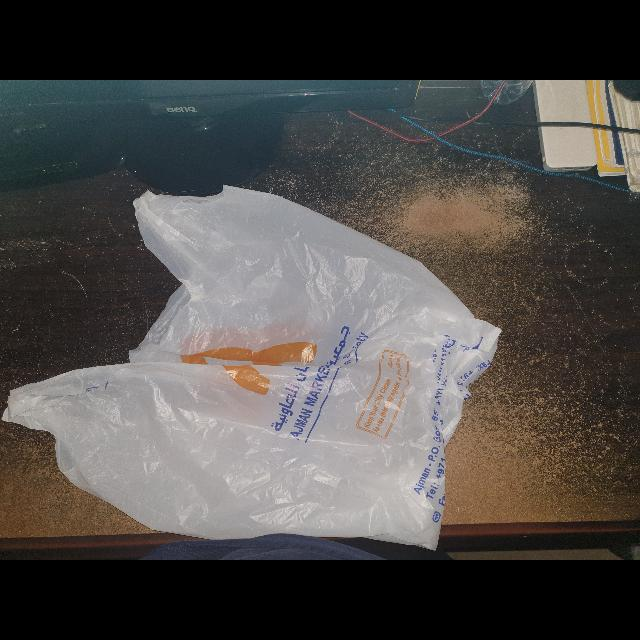plastic_bag: (1, 182, 508, 558)
